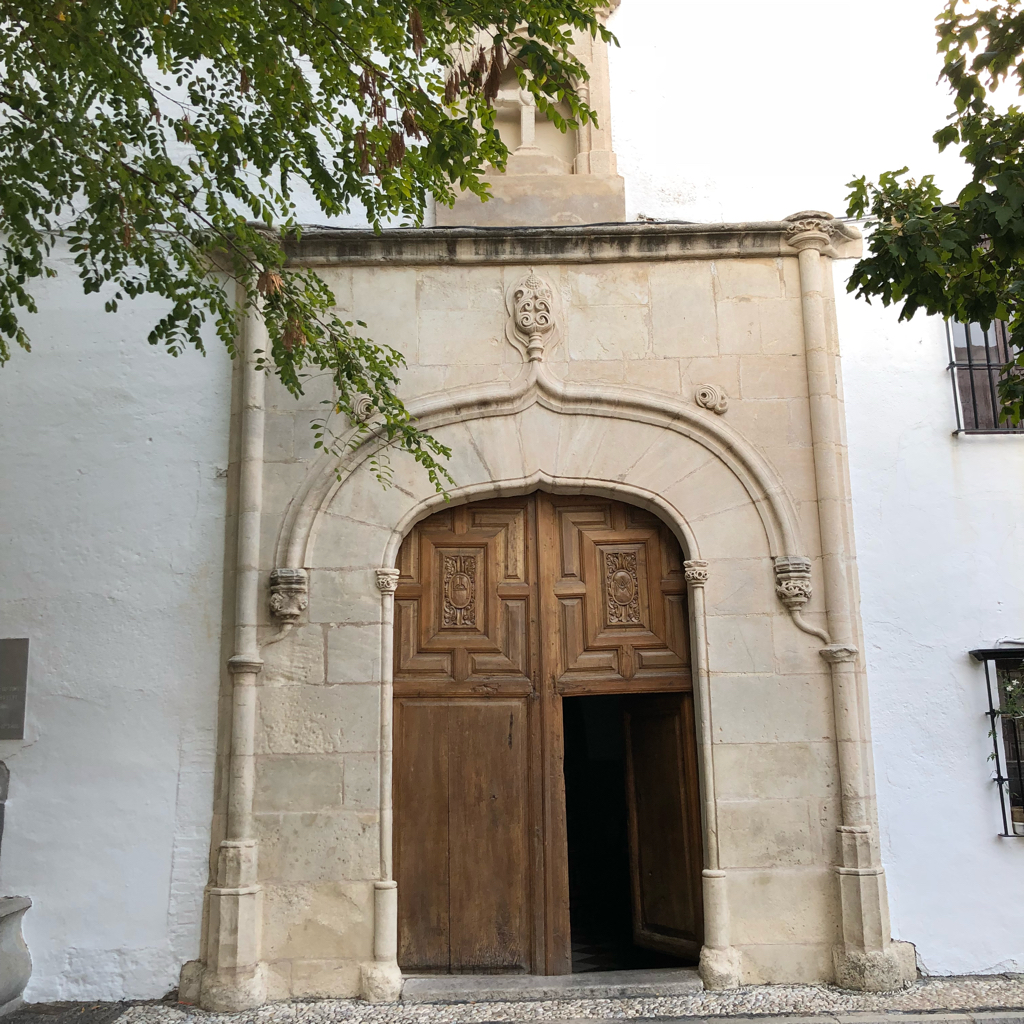arco-conopial: (315, 360, 760, 461), (394, 463, 690, 528)
